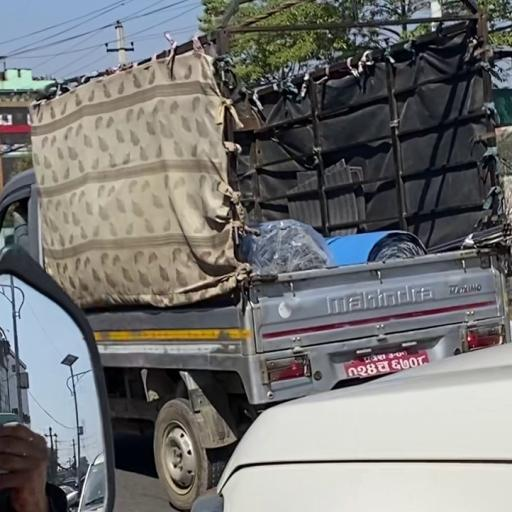license_plate: (340, 341, 433, 382)
